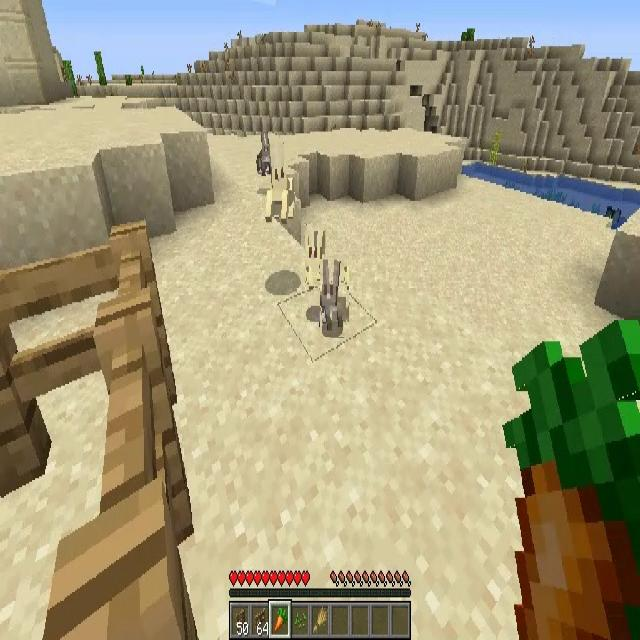rabbit: (320, 259, 349, 337), (266, 153, 298, 221), (305, 230, 326, 290), (256, 134, 270, 176)
